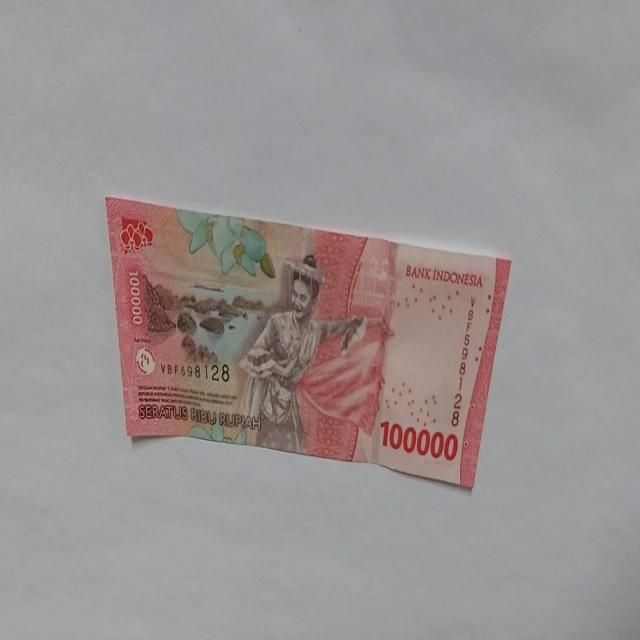seratus ribu rupiah: (104, 194, 512, 492), (235, 252, 365, 454)
